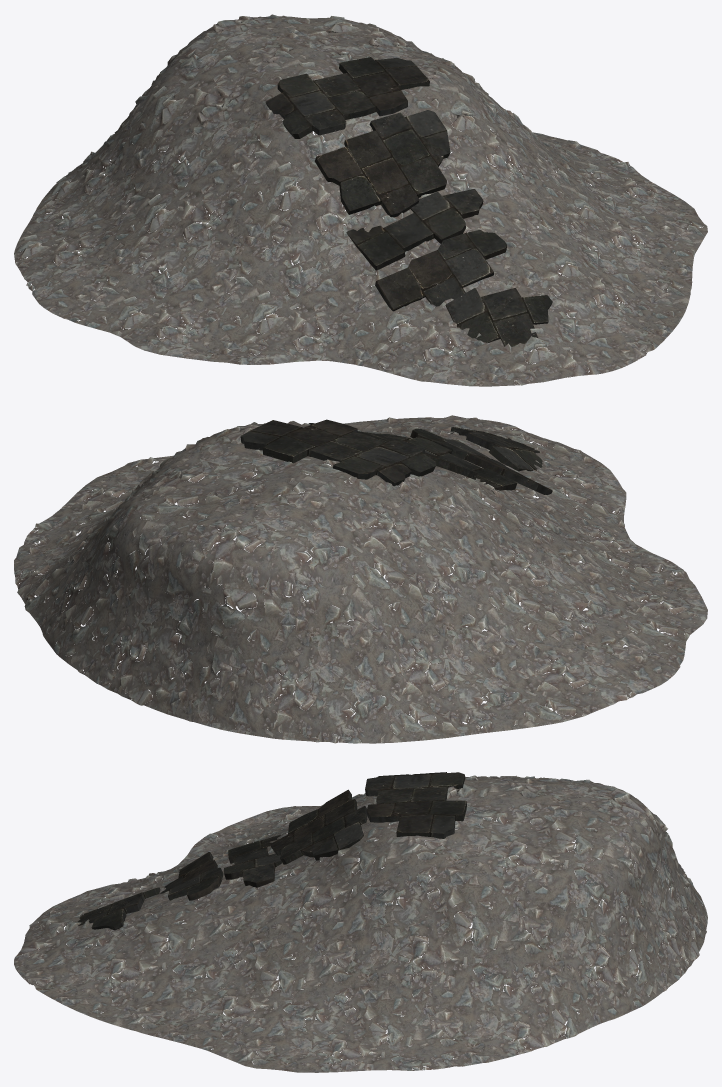
3 views of the same model, one above another, from view 1: azimuth 30°, elevation 25°; view 2: azimuth 150°, elevation 25°; view 3: azimuth 270°, elevation 25° (orthographic). The views are drawn at different scales.
Parts seen in each view (by area): view 1: SM_SaradominTemple_Rubble_01_v1_LOD0; view 2: SM_SaradominTemple_Rubble_01_v1_LOD0; view 3: SM_SaradominTemple_Rubble_01_v1_LOD0.
Part boxes in pixels (bbox=[...]): SM_SaradominTemple_Rubble_01_v1_LOD0: bbox=[14, 14, 707, 386]; SM_SaradominTemple_Rubble_01_v1_LOD0: bbox=[14, 415, 707, 743]; SM_SaradominTemple_Rubble_01_v1_LOD0: bbox=[14, 772, 707, 1072].
Bounding box in the file's own units: 18.44 × 4.44 × 19.3.
Materials: 2 (2 with a texture image).
